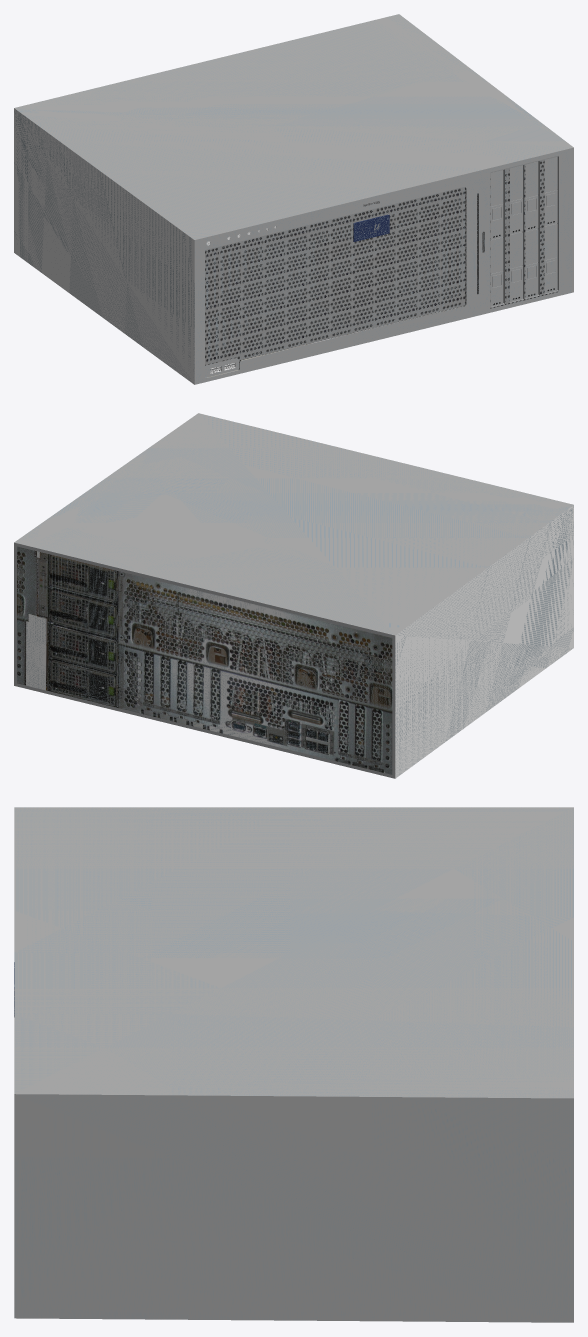
3 renders of one model, top to bottom at view 1: azimuth 30°, elevation 25°; view 2: azimuth 150°, elevation 25°; view 3: azimuth 270°, elevation 25°, orthographic. The views are drawn at different scales.
Parts seen in each view (by area): view 1: SketchUp (×6), group_4, group_9, group_14, group_11, group_5, group_7, group_8, group_6; view 2: SketchUp (×3); view 3: SketchUp.
Boxes of the visible parts, bbox=[...] form: SketchUp (×6): bbox=[14, 14, 573, 384]; group_4: bbox=[544, 223, 557, 293]; group_9: bbox=[525, 161, 538, 231]; group_14: bbox=[525, 229, 538, 298]; group_11: bbox=[544, 157, 557, 226]; group_5: bbox=[490, 170, 503, 239]; group_7: bbox=[490, 237, 503, 306]; group_8: bbox=[510, 232, 522, 302]; group_6: bbox=[510, 165, 522, 234]; SketchUp (×3): bbox=[14, 413, 573, 778]; SketchUp: bbox=[14, 807, 573, 1322].
Size of the model in its own units: 266 by 216 by 95.5.
14 materials, 3 textured.
